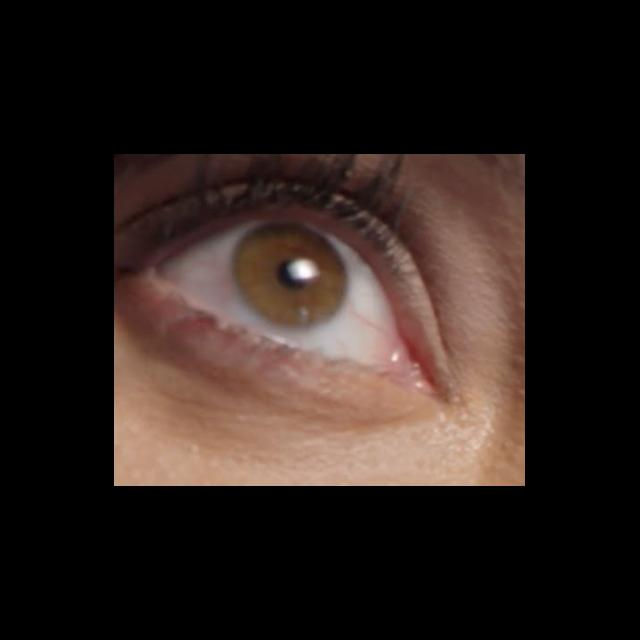eye: (158, 218, 397, 368)
iris: (234, 222, 348, 326)
